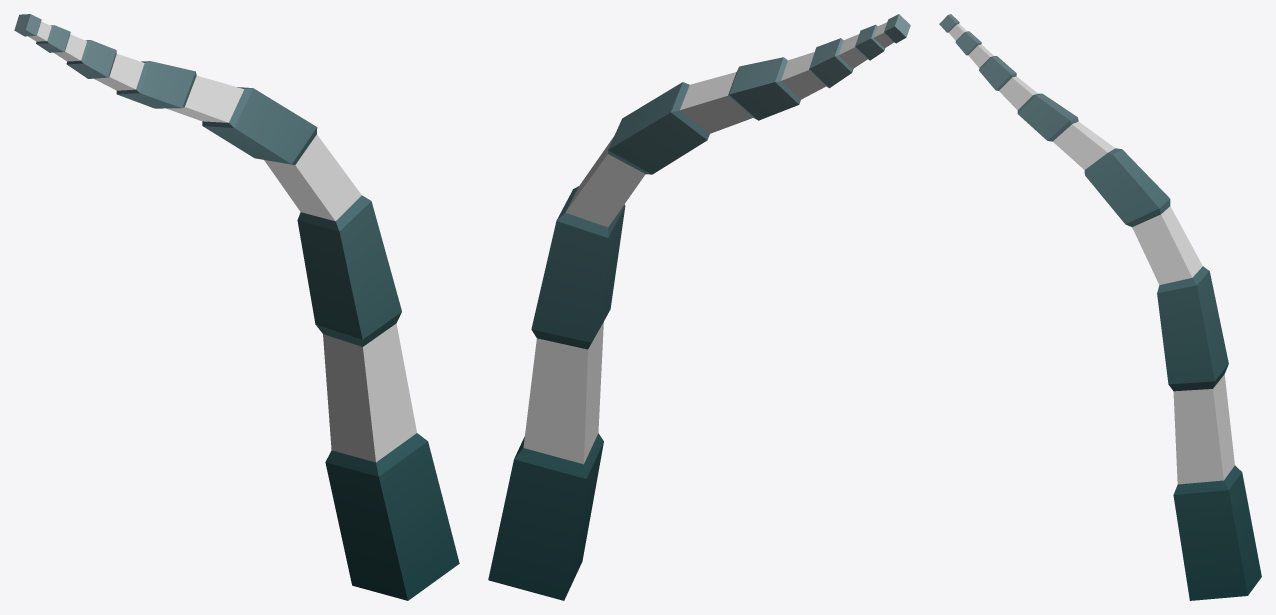
The picture shows the model from 3 angles, left to right: view 1: azimuth 30°, elevation 25°; view 2: azimuth 150°, elevation 25°; view 3: azimuth 330°, elevation 25°; orthographic projection. The views are drawn at different scales.
Parts seen in each view (by area): view 1: Cube.141; view 2: Cube.141; view 3: Cube.141.
Boxes of the visible parts, x1,y1,x2,y2 form: Cube.141: (14, 14, 459, 600); Cube.141: (488, 14, 910, 600); Cube.141: (939, 14, 1261, 600).
Size of the model in its own units: 11.45 by 17.06 by 2.48.
